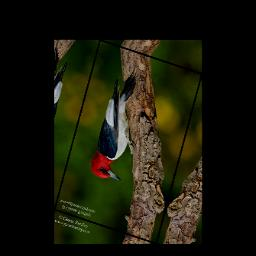Woodpecker: (86, 60, 158, 186)
